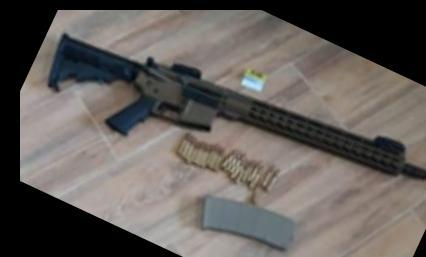larga: (46, 32, 426, 181)
